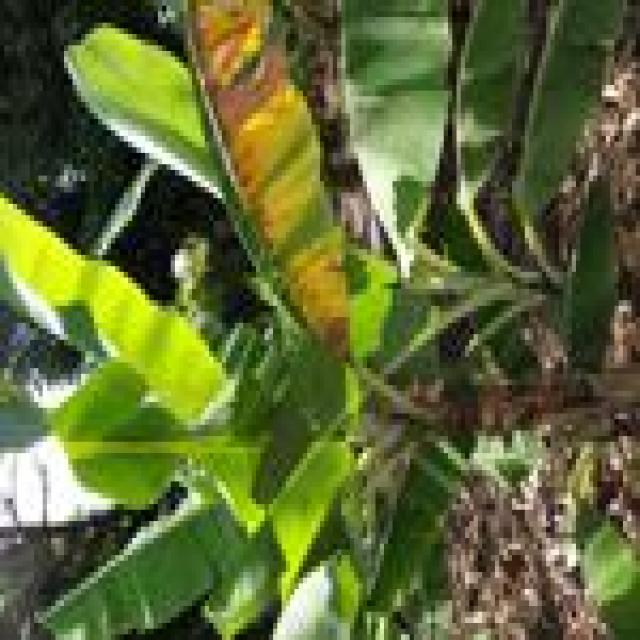Early_rust: (167, 0, 376, 375)
